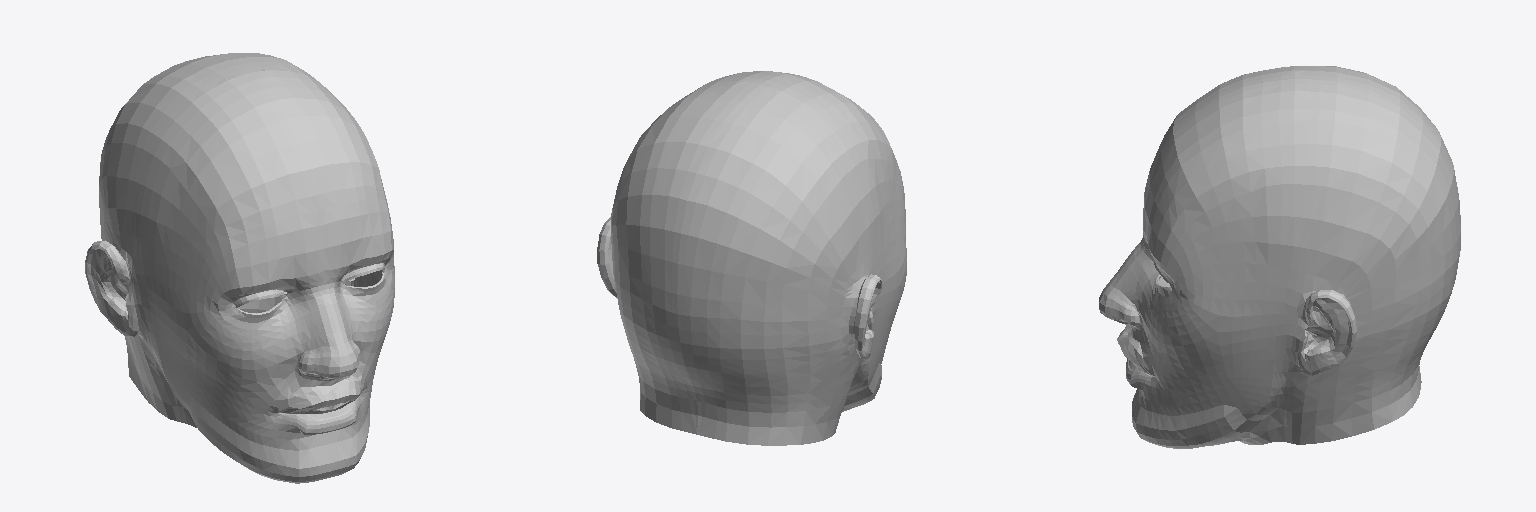
Rendered from erh.obj.
3 views of the same model, side by side, from view 1: azimuth 30°, elevation 25°; view 2: azimuth 150°, elevation 25°; view 3: azimuth 270°, elevation 25° (orthographic).
Visible parts, largest first — view 1: Mesh_object0; view 2: Mesh_object0; view 3: Mesh_object0.
Part boxes in pixels (bbox=[...]): Mesh_object0: bbox=[85, 53, 394, 483]; Mesh_object0: bbox=[597, 71, 906, 445]; Mesh_object0: bbox=[1099, 66, 1460, 448].
Size of the model in its own units: 30.6 by 38.16 by 35.42.